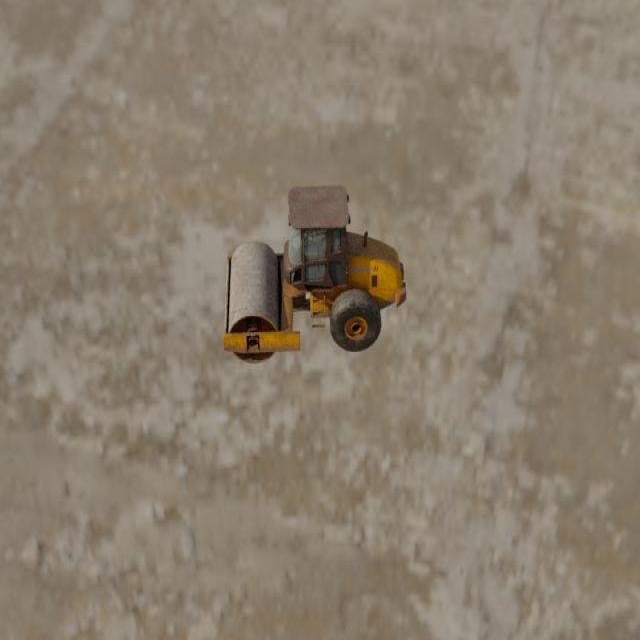Roller: (222, 184, 407, 364)
